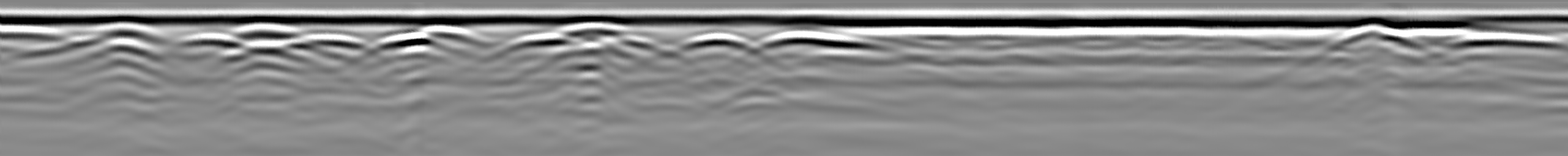pipe: (1332, 15, 1423, 46), (80, 18, 170, 41), (229, 17, 310, 38), (414, 15, 478, 41), (555, 15, 626, 37)
steel: (760, 27, 867, 49), (1454, 32, 1568, 51), (682, 30, 760, 52), (182, 34, 242, 53), (375, 33, 437, 51), (508, 34, 572, 51), (300, 33, 364, 49)
